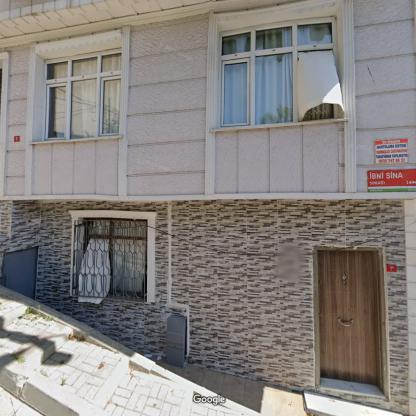door: (318, 251, 380, 386)
window: (218, 21, 333, 127), (45, 53, 122, 139), (87, 218, 147, 299)
